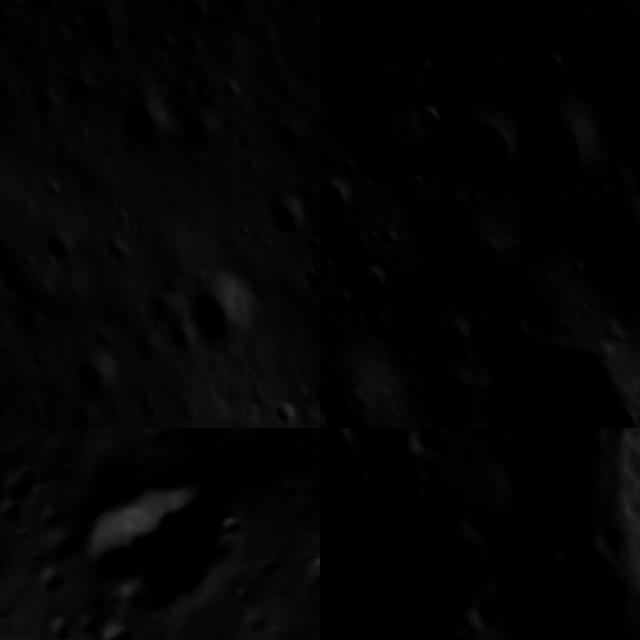crater: (56, 450, 269, 640), (447, 297, 640, 428), (386, 0, 601, 67), (575, 428, 640, 640), (426, 88, 532, 196), (170, 257, 268, 366), (507, 96, 606, 197), (543, 0, 629, 81), (71, 0, 146, 80), (110, 85, 182, 167), (417, 362, 491, 428), (336, 0, 435, 48), (66, 346, 132, 414), (505, 428, 578, 488), (260, 179, 320, 243), (557, 582, 610, 637), (401, 92, 457, 144), (27, 79, 76, 138), (320, 381, 376, 428), (320, 168, 363, 228), (350, 255, 400, 306), (433, 308, 482, 360), (538, 177, 580, 226), (405, 461, 452, 504), (0, 255, 39, 304), (45, 222, 84, 270), (294, 546, 320, 617), (348, 451, 389, 494), (203, 0, 265, 27), (395, 428, 446, 459), (586, 614, 637, 640), (26, 0, 71, 29), (625, 361, 640, 426), (337, 428, 377, 446), (273, 0, 298, 24), (435, 628, 484, 640)
